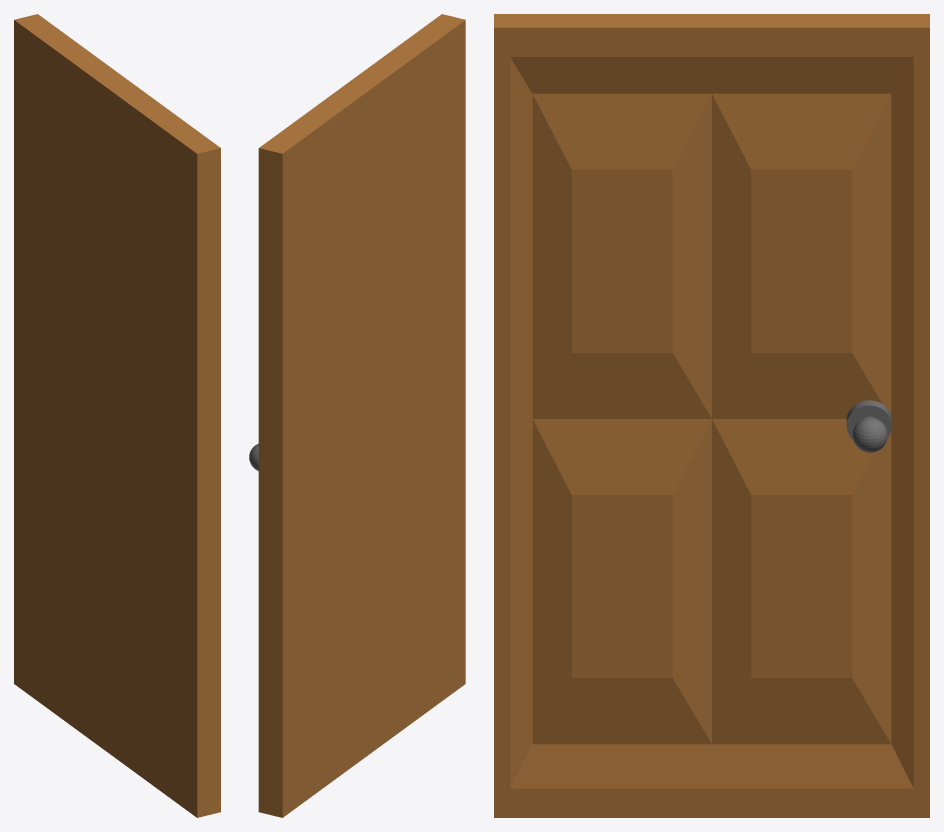
The model's file is Door.fbx.
3 views of the same model, side by side, from view 1: azimuth 30°, elevation 25°; view 2: azimuth 150°, elevation 25°; view 3: azimuth 270°, elevation 25° (orthographic). The views are drawn at different scales.
Parts seen in each view (by area): view 1: door; view 2: door; view 3: door.
Boxes of the visible parts, <box> form: door: <box>14,14,220,817</box>; door: <box>249,14,465,817</box>; door: <box>494,14,929,817</box>.
Bounding box in the file's own units: 35.68 × 400 × 200.
